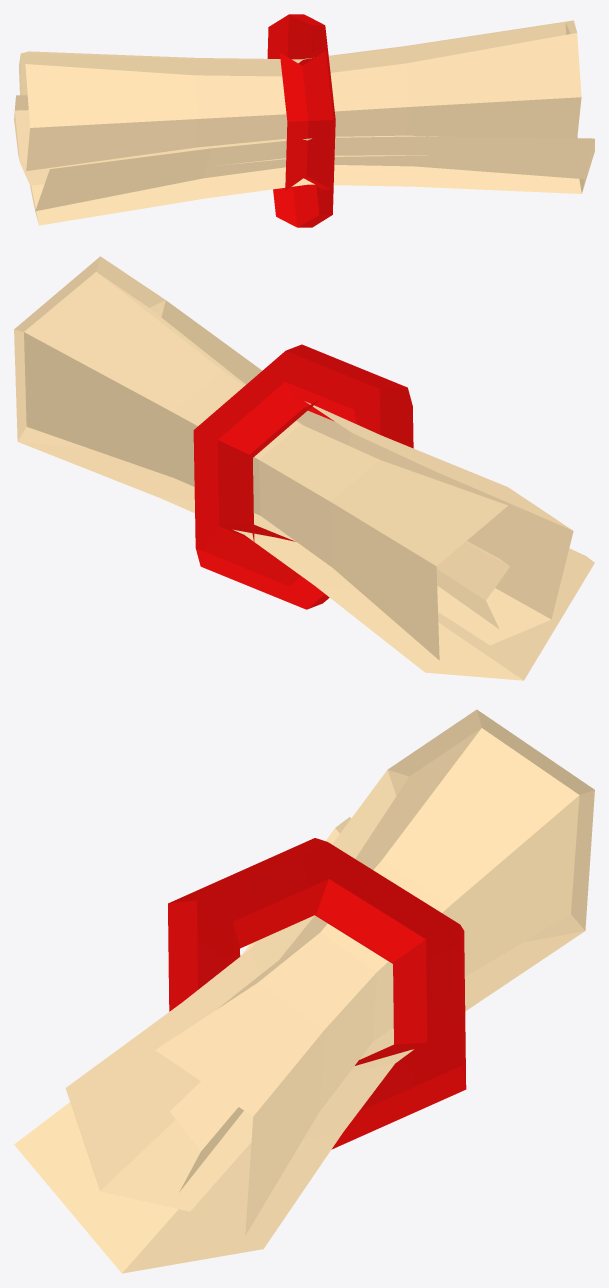
Rendered from scroll1-glow.glb.
The picture shows the model from 3 angles, top to bottom: view 1: azimuth 30°, elevation 25°; view 2: azimuth 150°, elevation 25°; view 3: azimuth 270°, elevation 25°; orthographic projection. The views are drawn at different scales.
Visible parts, largest first — view 1: PaperToon; view 2: PaperToon; view 3: PaperToon.
Part boxes in pixels (bbox=[...]): PaperToon: bbox=[14, 14, 594, 227]; PaperToon: bbox=[14, 256, 594, 680]; PaperToon: bbox=[14, 709, 594, 1273].
Size of the model in its own units: 0.5108 by 0.2113 by 0.3464.
1 material, 1 textured.
